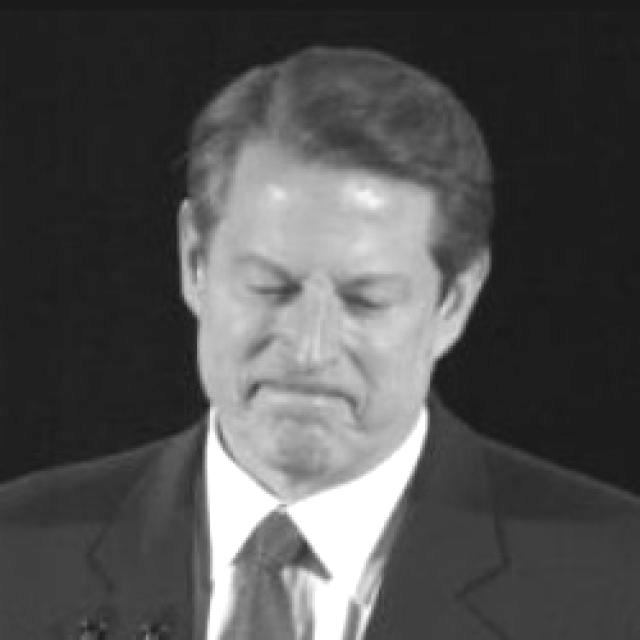real: (183, 126, 439, 482), (226, 242, 400, 336)
